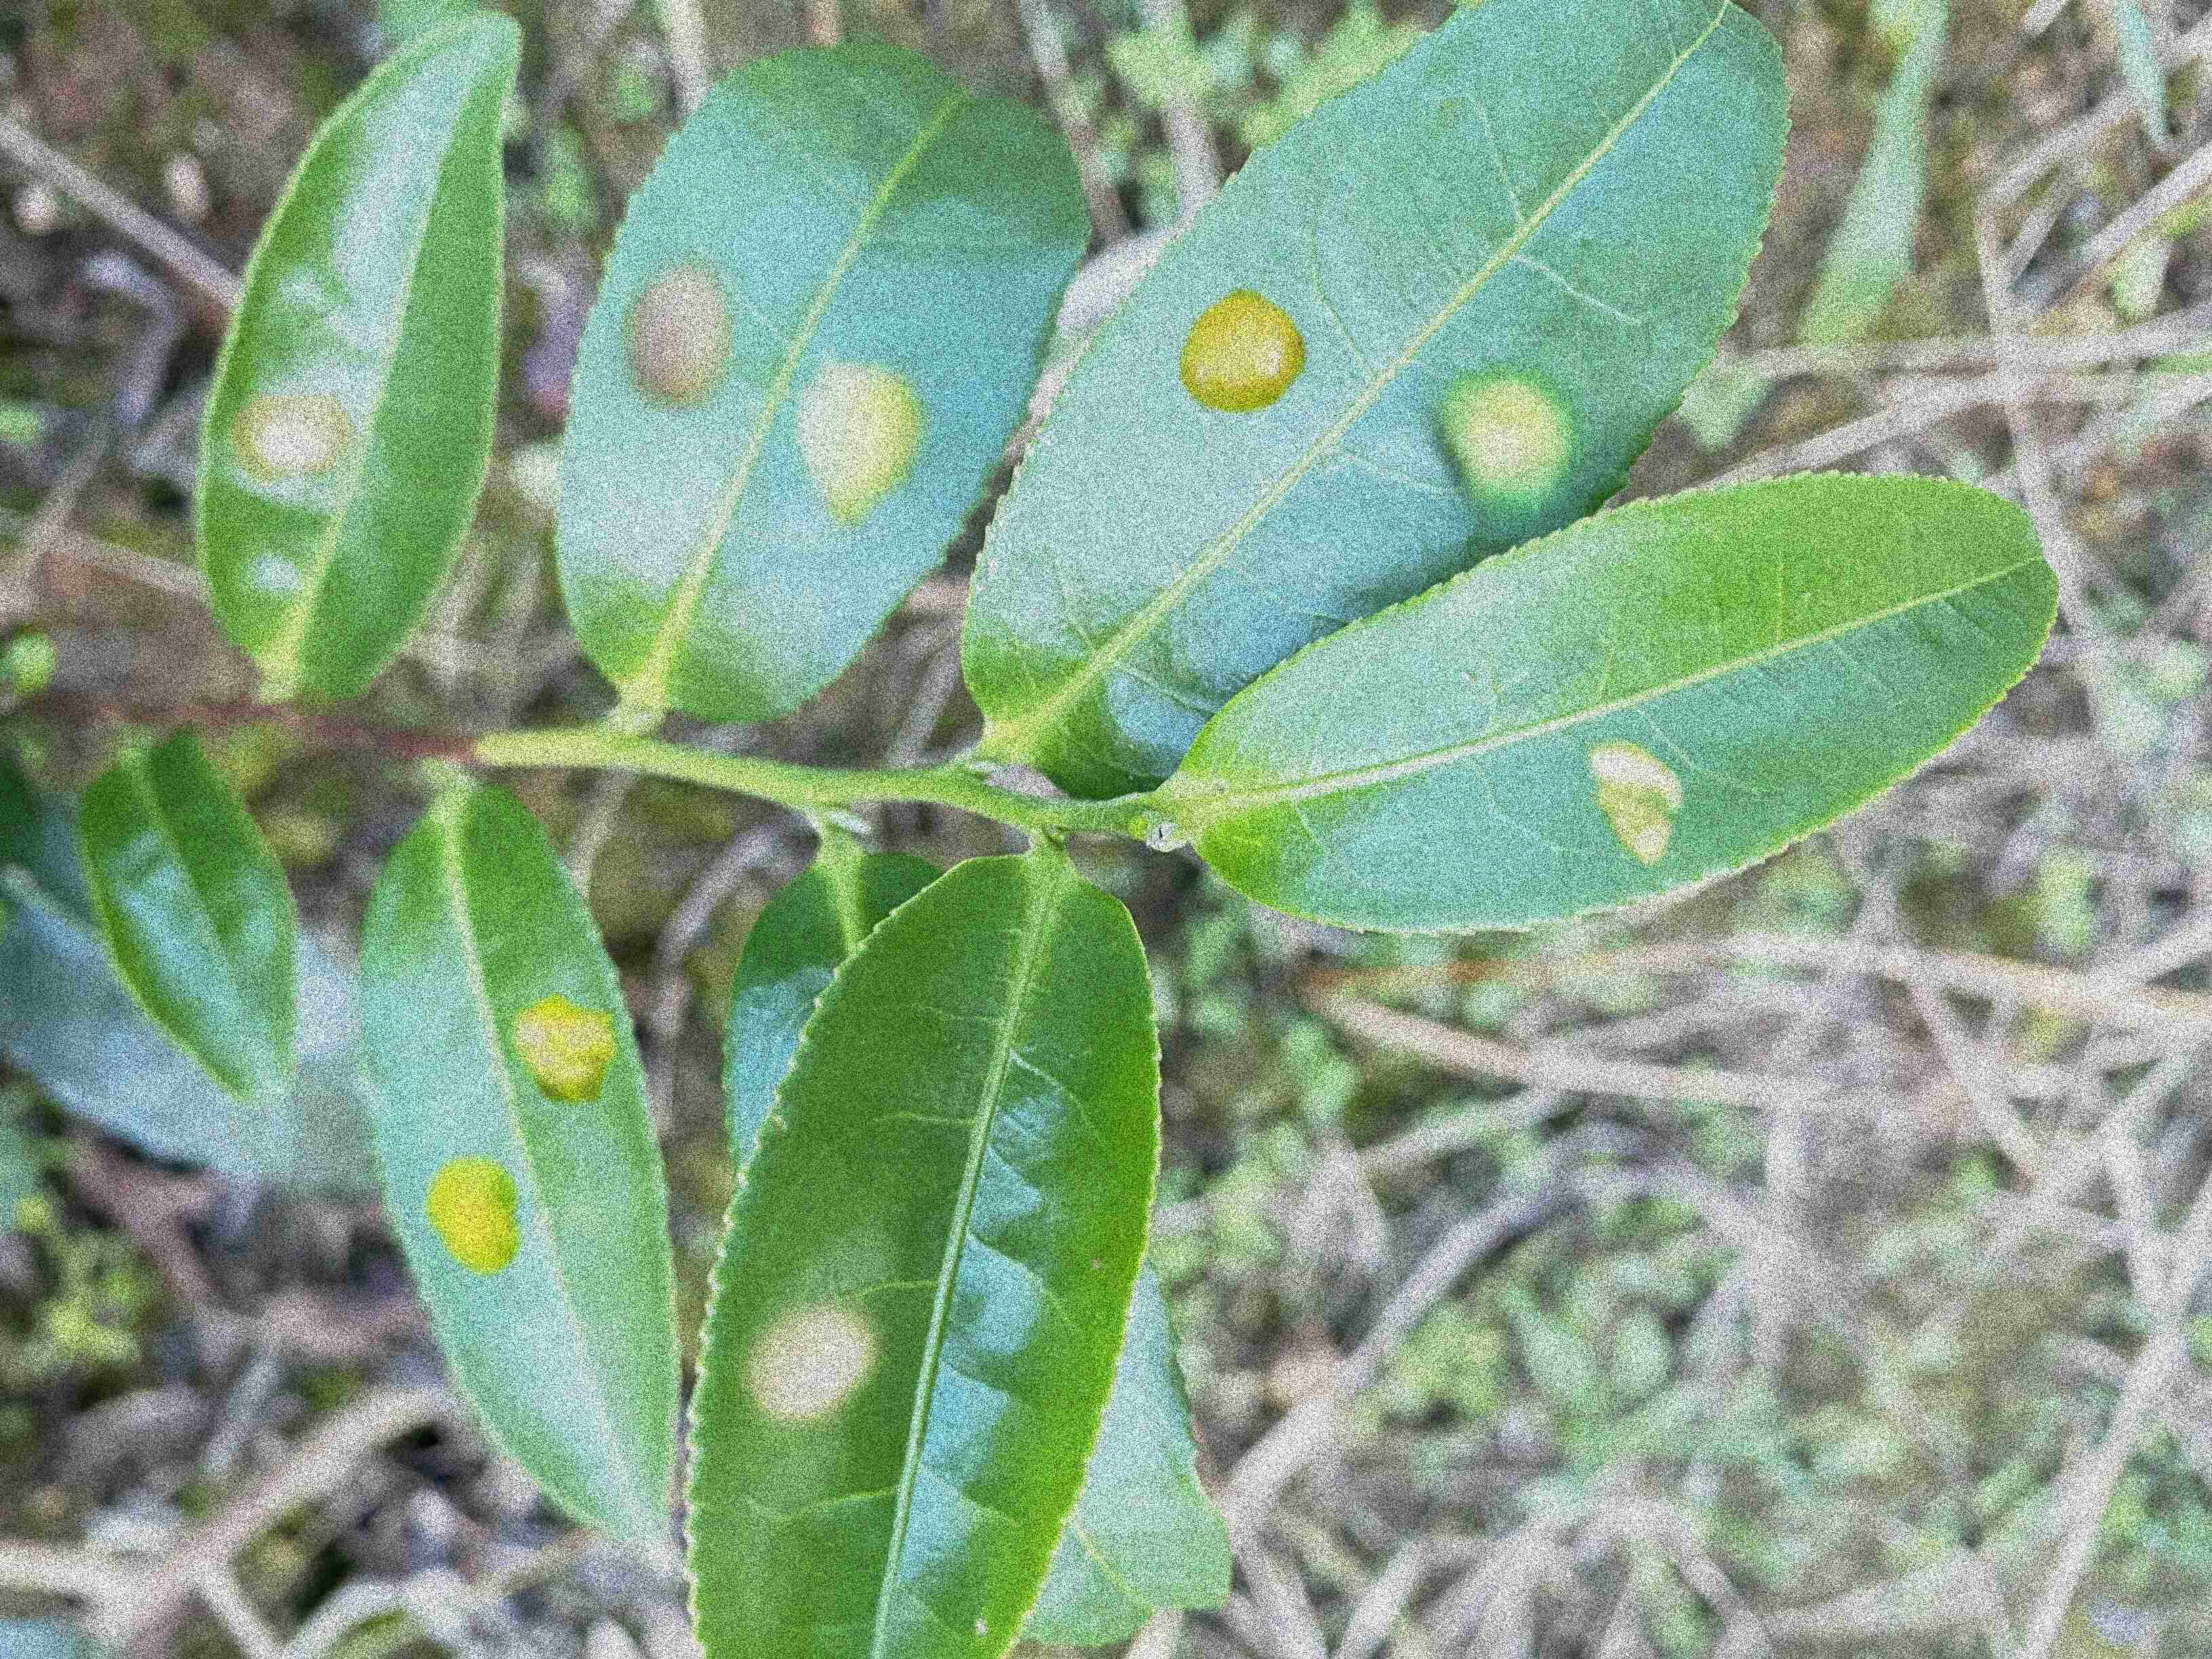chabing_high: (958, 3, 1794, 800), (554, 37, 1096, 725), (359, 782, 679, 1541)
chabing_low: (1181, 467, 2059, 938), (679, 856, 1163, 1654), (193, 16, 526, 699)
healthy: (80, 721, 301, 1103)
